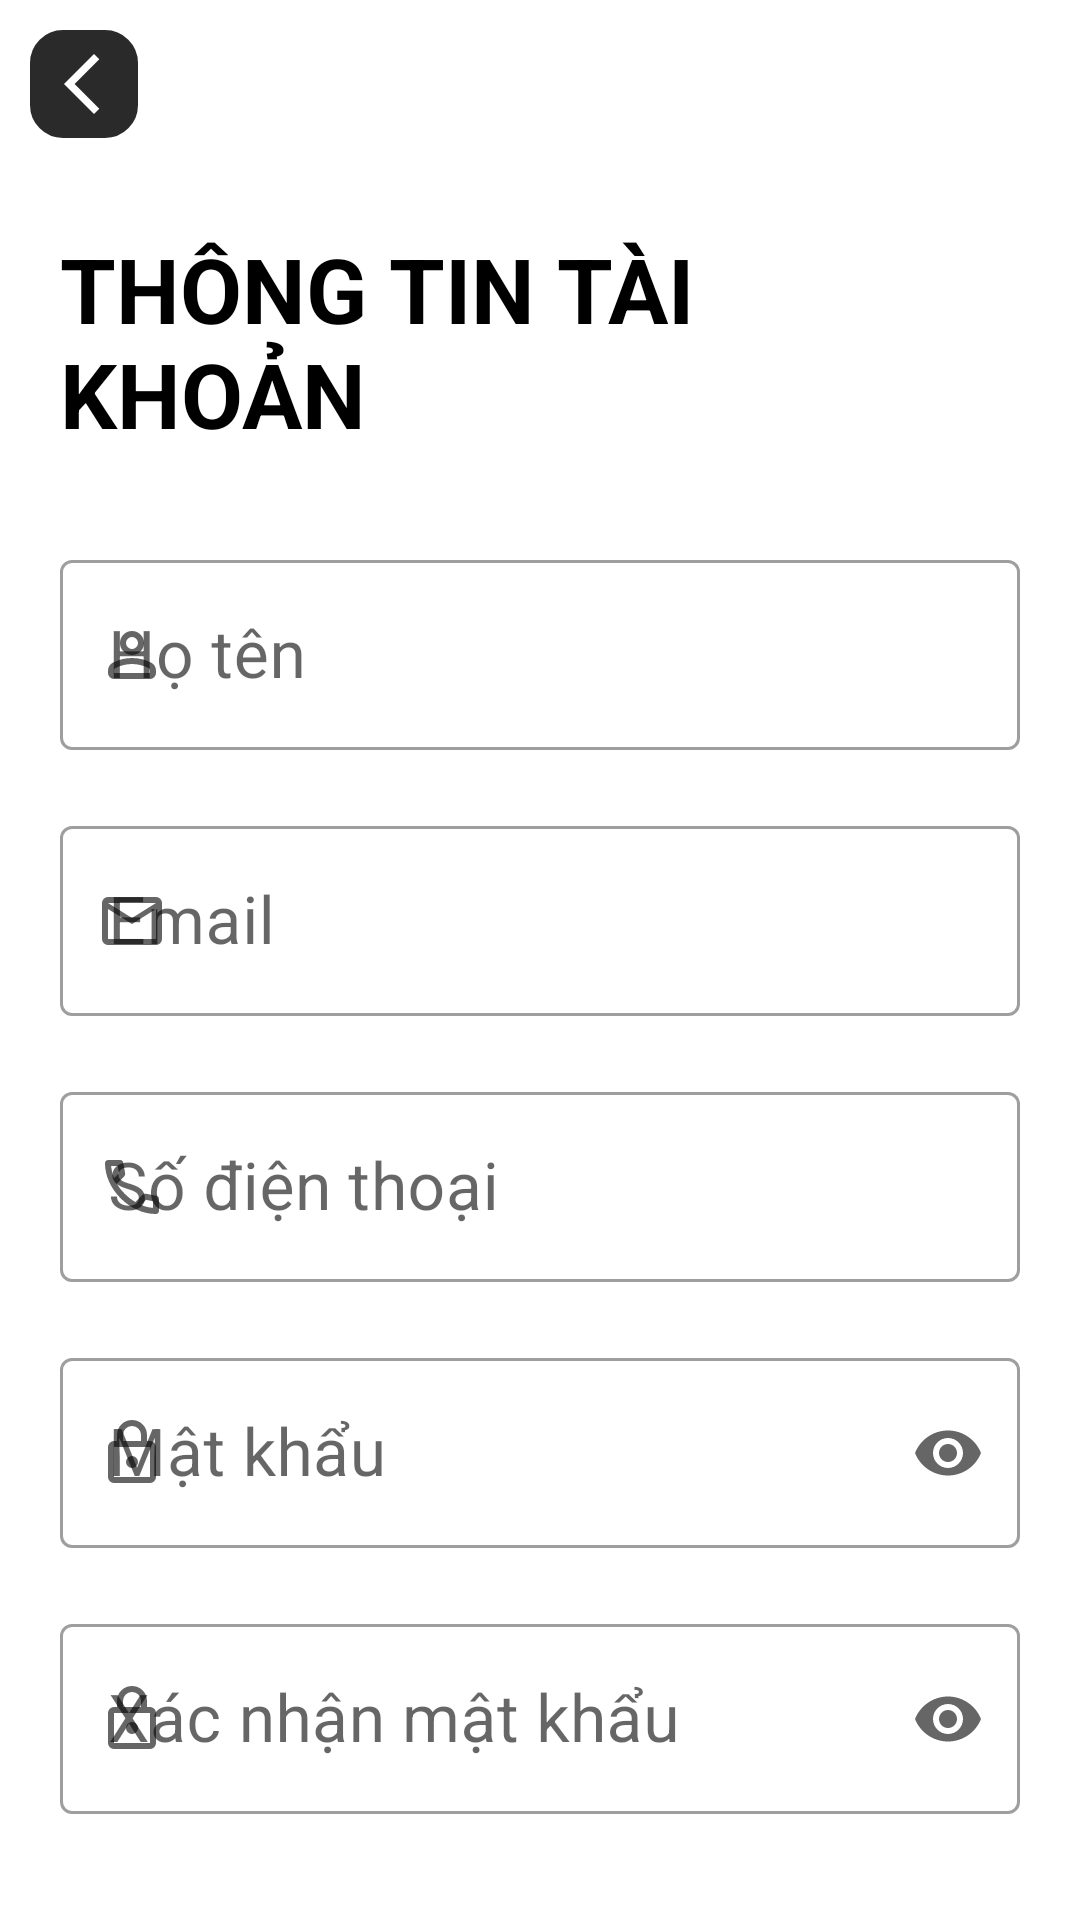

Screen size 1080px×1920px. Icon name, then its center in pixels as [x,y]:
back: [81,84]
